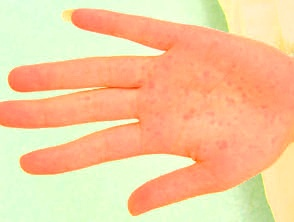SJS-TEN: (120, 29, 294, 179)
